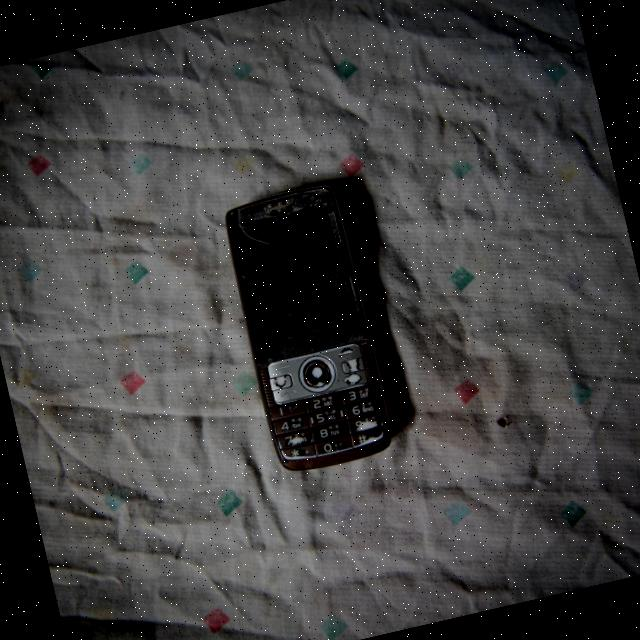Phone: (216, 174, 401, 476)
